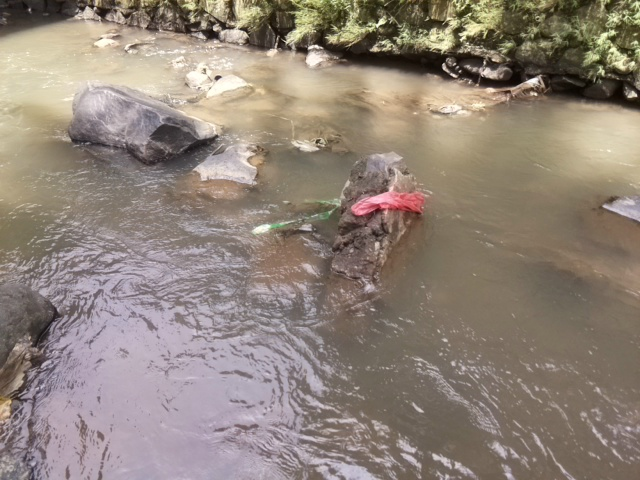Sampah_Plastik: (347, 189, 431, 219)
